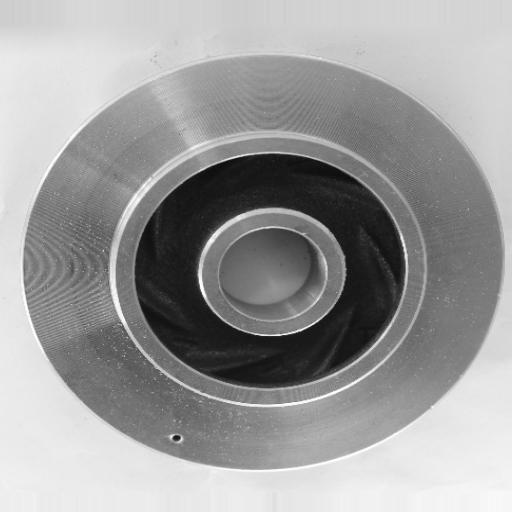pit: (162, 426, 189, 447)
unpolished_casting: (22, 54, 503, 474)
